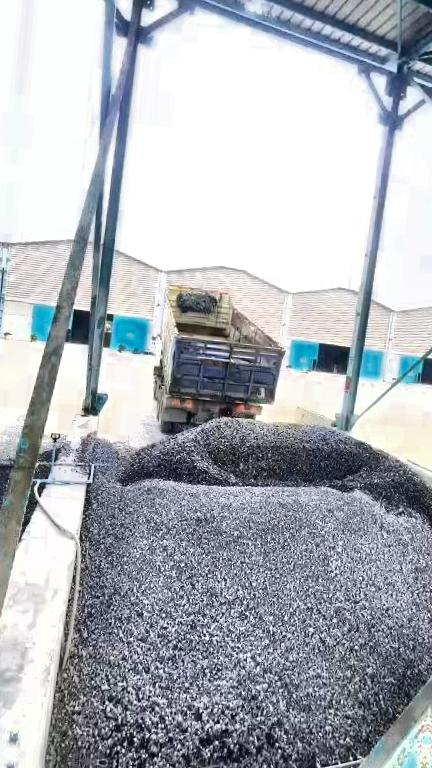gravel: (47, 419, 432, 768), (0, 436, 17, 511), (34, 441, 50, 495)
